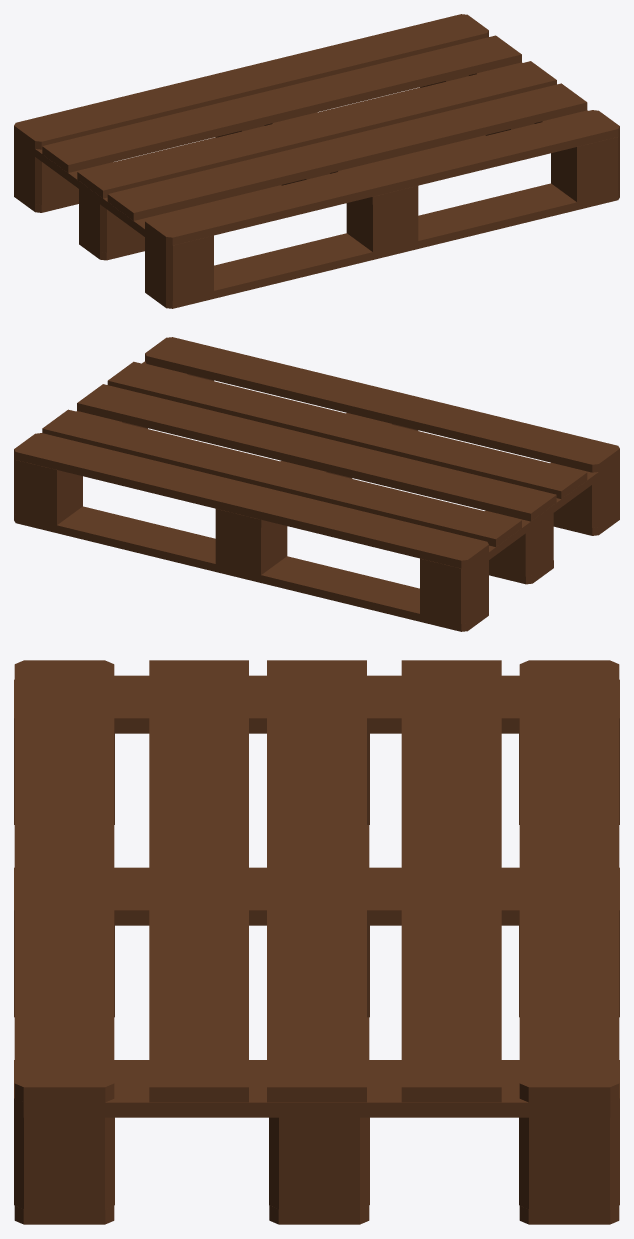
Rendered from Pallet.fbx.
3 views of the same model, one above another, from view 1: azimuth 30°, elevation 25°; view 2: azimuth 150°, elevation 25°; view 3: azimuth 270°, elevation 25° (orthographic). The views are drawn at different scales.
Parts seen in each view (by area): view 1: Cube.051, Cube.049, Cube.045, Cube.050, Cube.048, Cube.032, Cube.033, Cube.034, Cube.035, Cube.038, Cube.042, Cube.044 (+4 smaller); view 2: Cube.050, Cube.048, Cube.045, Cube.051, Cube.049, Cube.040, Cube.041, Cube.042, Cube.043, Cube.034, Cube.038, Cube.044 (+4 smaller); view 3: Cube.049, Cube.045, Cube.048, Cube.050, Cube.051, Cube.046, Cube.035, Cube.043, Cube.039, Cube.047, Cube.044, Cube.036 (+2 smaller).
Boxes of the visible parts, x1,y1,x2,y2 form: Cube.051: (107,83,587,220); Cube.049: (42,35,521,172); Cube.045: (145,110,619,245); Cube.050: (77,61,556,198); Cube.048: (14,14,488,149); Cube.032: (145,183,619,308); Cube.033: (346,194,418,251); Cube.034: (145,237,213,300); Cube.035: (551,142,619,202); Cube.038: (79,189,144,252); Cube.042: (14,141,78,204); Cube.044: (14,134,213,253); Cube.050: (77,384,556,521); Cube.048: (14,433,488,568); Cube.045: (145,337,619,472); Cube.051: (107,361,587,499); Cube.049: (42,409,521,546); Cube.040: (14,506,488,631); Cube.041: (215,517,287,574); Cube.042: (420,560,488,623); Cube.043: (14,465,82,525); Cube.034: (553,464,619,527); Cube.038: (489,513,553,576); Cube.044: (420,457,619,576); Cube.049: (401,660,501,1102); Cube.045: (14,660,114,1102); Cube.048: (519,660,619,1102); Cube.050: (267,660,366,1102); Cube.051: (149,660,248,1102); Cube.046: (14,1060,619,1117); Cube.035: (14,1114,114,1209); Cube.043: (519,1114,619,1209); Cube.039: (269,1117,369,1209); Cube.047: (14,867,619,925); Cube.044: (14,675,619,733); Cube.036: (269,825,369,1224).
Bounding box in the file's own units: 600 × 90 × 360.
